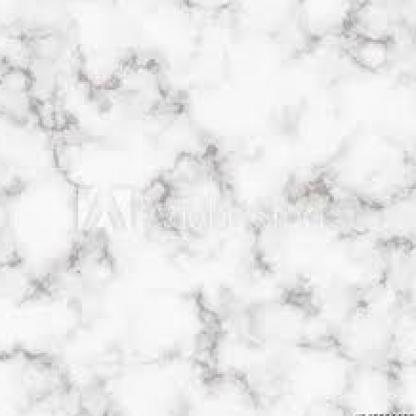Metamorphic_Marble: (0, 2, 414, 414)
